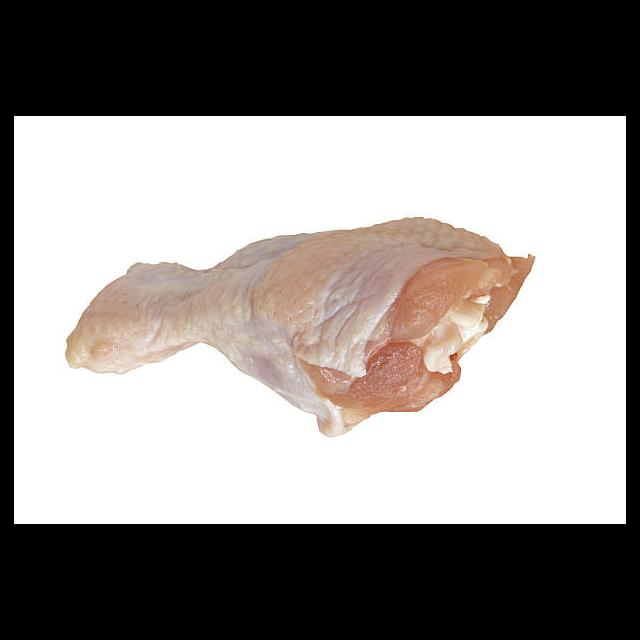chicken: (65, 216, 538, 437)
